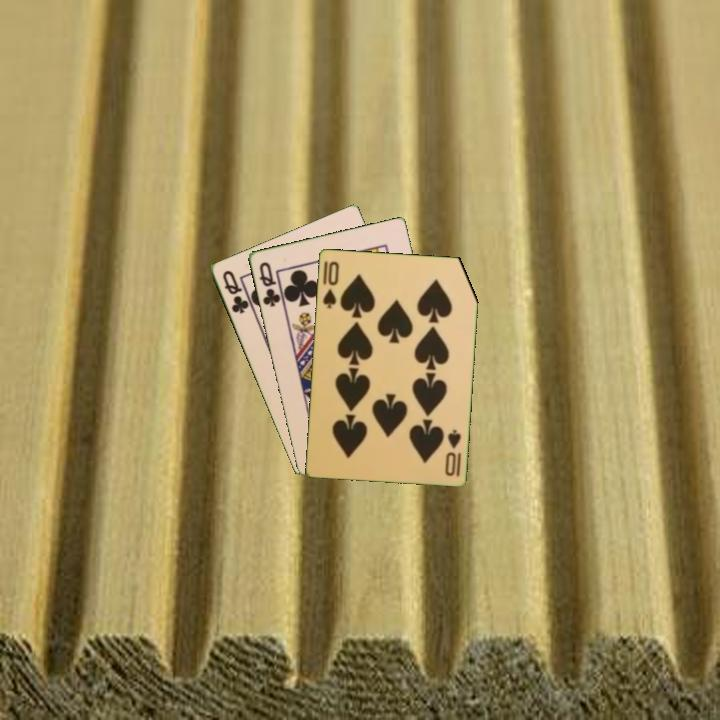10s: (319, 257, 342, 311), (441, 426, 464, 479)
Qc: (219, 266, 252, 317), (255, 258, 283, 310)
